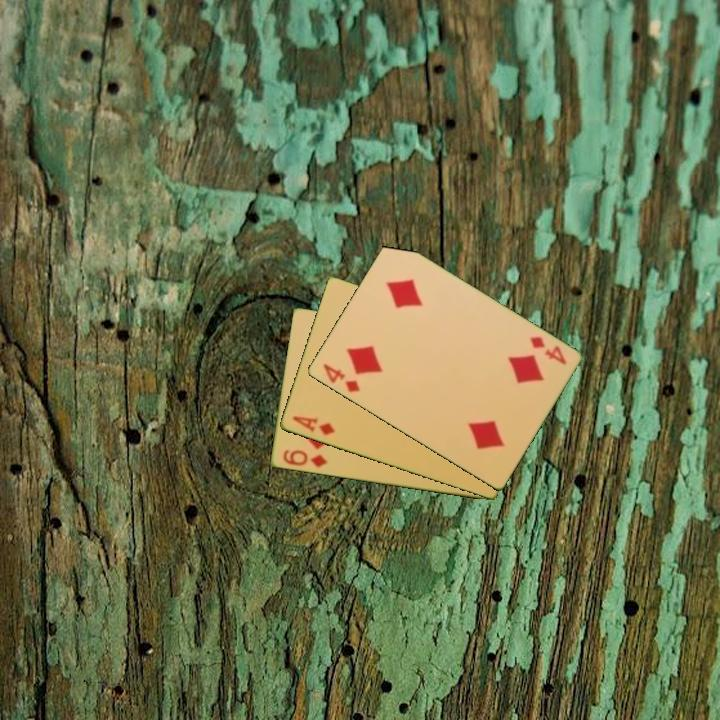4d: (319, 360, 362, 395), (526, 333, 569, 368)
6d: (279, 446, 330, 471)
Ad: (288, 413, 337, 438)
